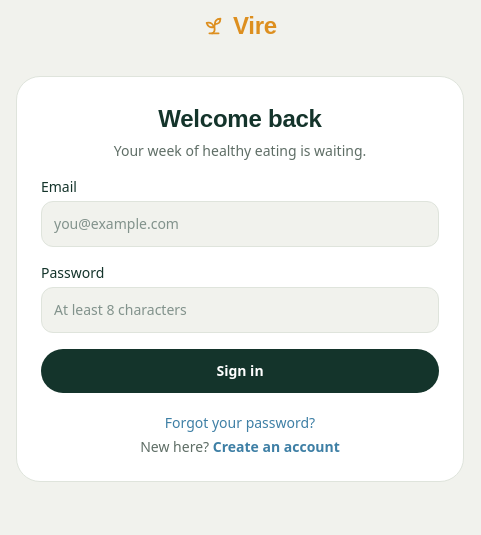
it: sign in › reports a wrong password without confirming the address exists
Step 1. Type "owner@example.com" into the field labelled "Email" → point(240, 224), box [41,201,439,247]
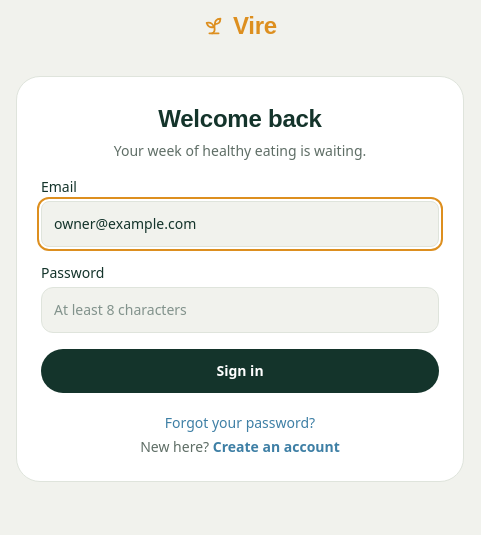
Step 2. Type "wrong password" into the password field labelled "Password" → point(240, 310), box [41,287,439,333]
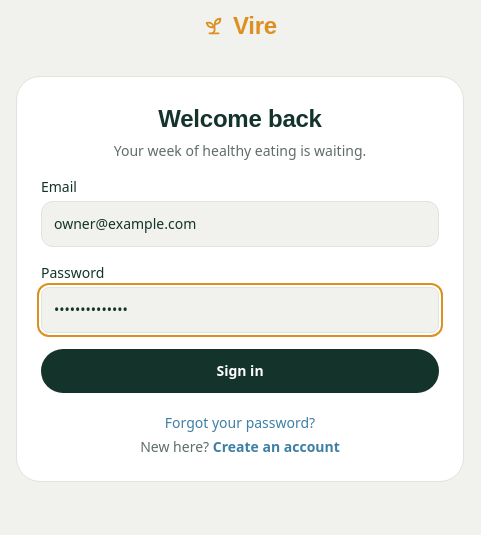
Step 3. Click the button "Sign in" → point(240, 371), box [41,349,439,393]
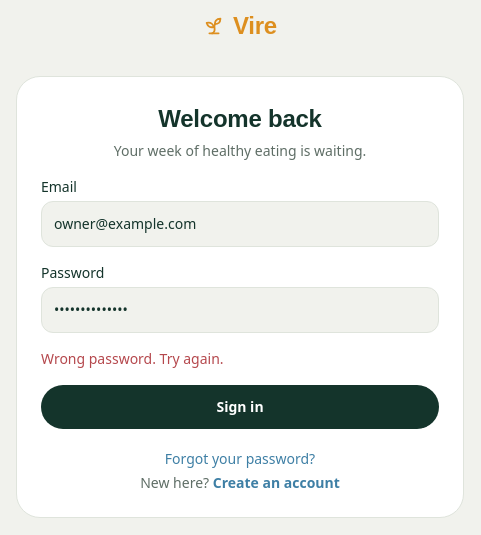
Check: the message reads "Wrong password. Try again.", box [41,349,224,368]
